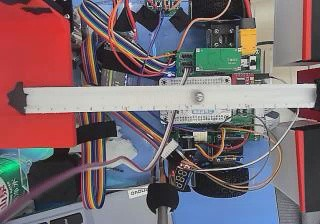ironball: (193, 91, 203, 102)
